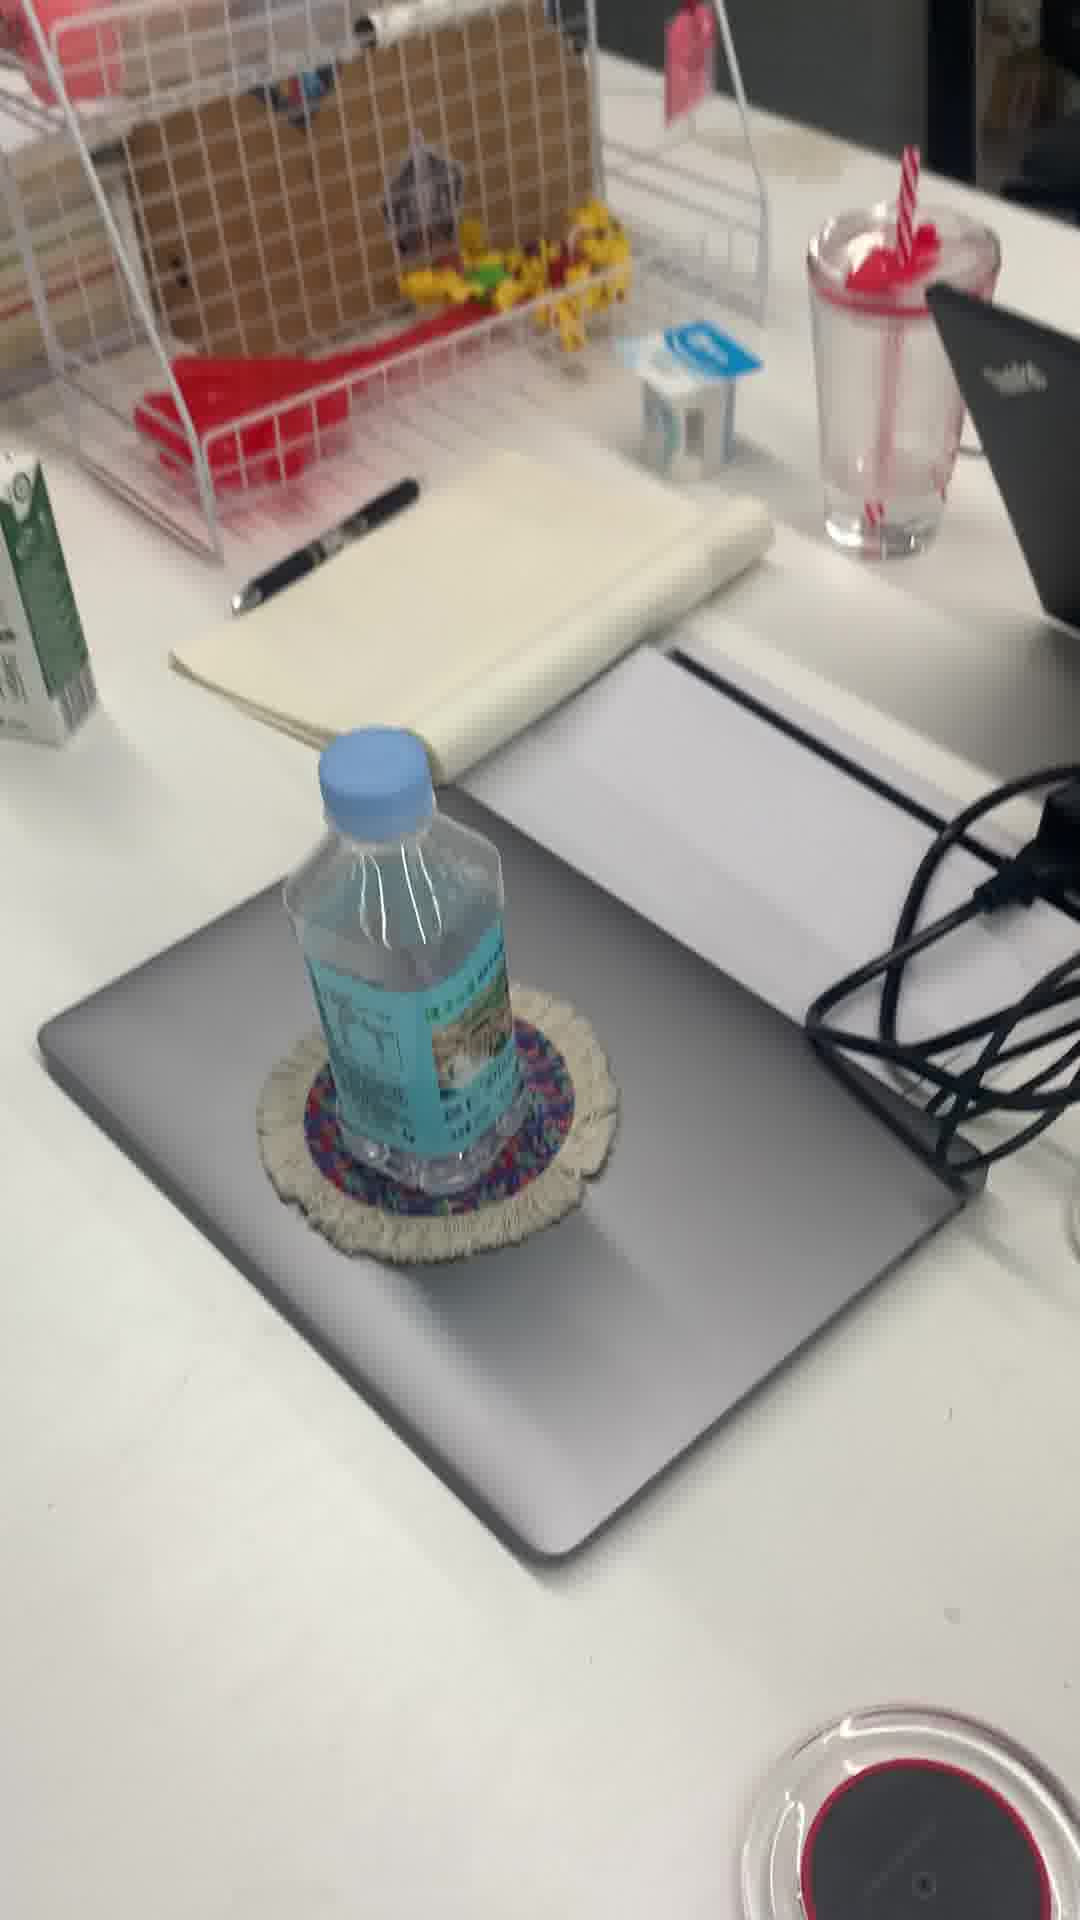水瓶: (282, 727, 545, 1203)
